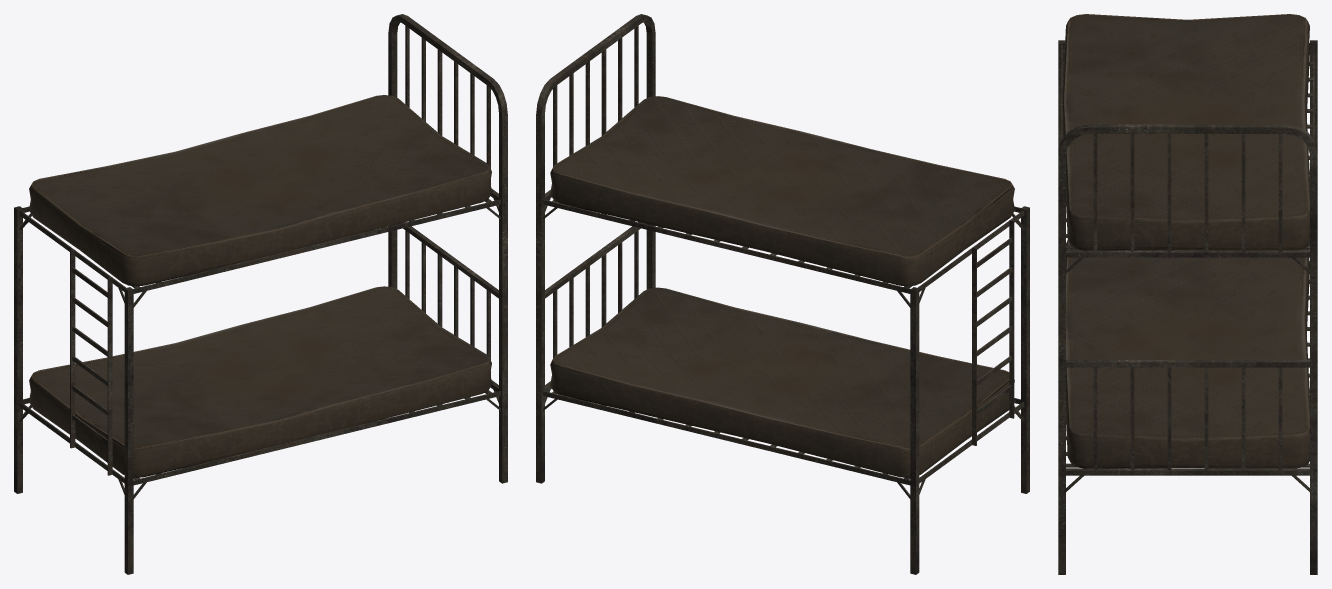
File: bed_2.dae
The picture shows the model from 3 angles, left to right: view 1: azimuth 30°, elevation 25°; view 2: azimuth 150°, elevation 25°; view 3: azimuth 270°, elevation 25°; orthographic projection. The views are drawn at different scales.
Visible parts, largest first — view 1: bed_2; view 2: bed_2; view 3: bed_2.
Boxes of the visible parts, box(x1,y1,x2,y2) form: bed_2: box(14, 14, 507, 574); bed_2: box(536, 14, 1029, 574); bed_2: box(1058, 14, 1317, 574).
Bounding box in the file's own units: 2.72 × 1.4 × 2.67.
Materials: 2 (2 with a texture image).
